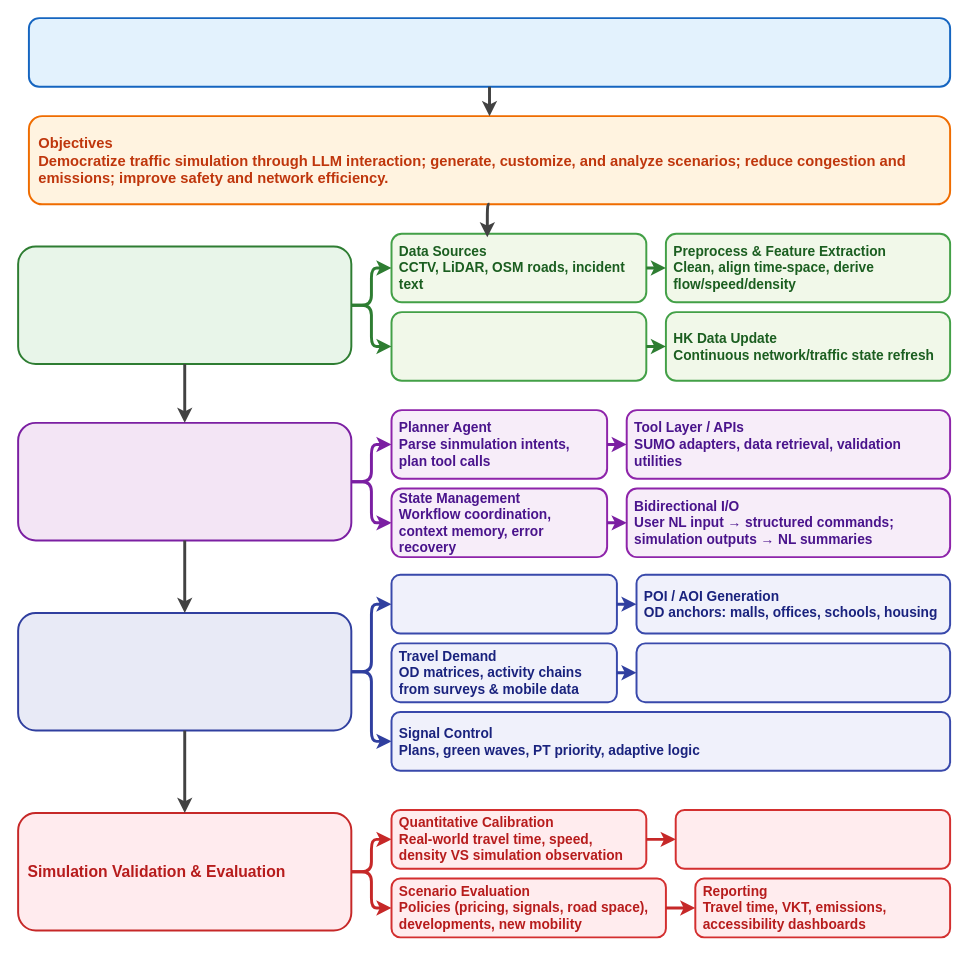
The diagram is 967 pixels wide and 955 high, and some of its shapes have lost their labels. Each missing label, with the centre of its shape:
Anomaly Detection LLM context to flag incidents/special events: pixel 518 346
Multi-Agent Text-to-Simulation Architecture: pixel 184 481
Multi-Source Traffic Data Integration: pixel 184 305
Network Generation Parse OSM, junction logic, lane configs: pixel 503 603
Qualitative Review Expert realism checks for HK context: pixel 812 838
Routing & Assignment Path sets, SUE, incident rerouting: pixel 793 672
Simulation Modules with LLM Fine-Tuning: pixel 184 671
Text to Simulation: LLM for AI-based Urban Mobility Simulation in Hong Kong: pixel 489 52
